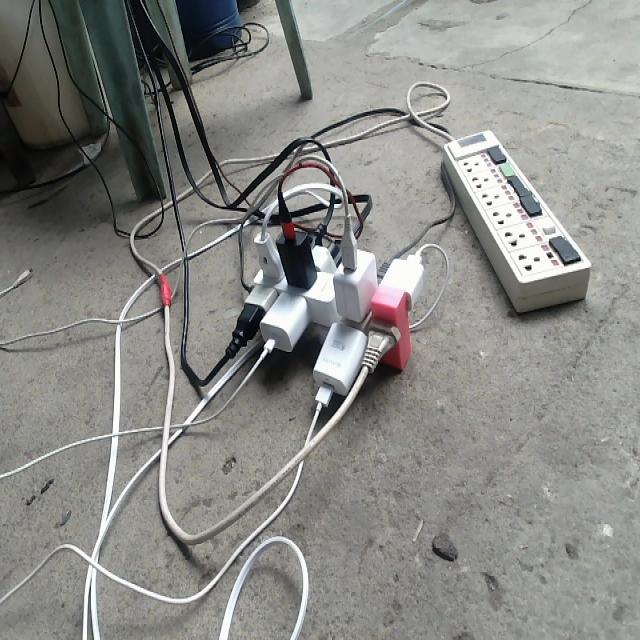-: (225, 184, 427, 411)
